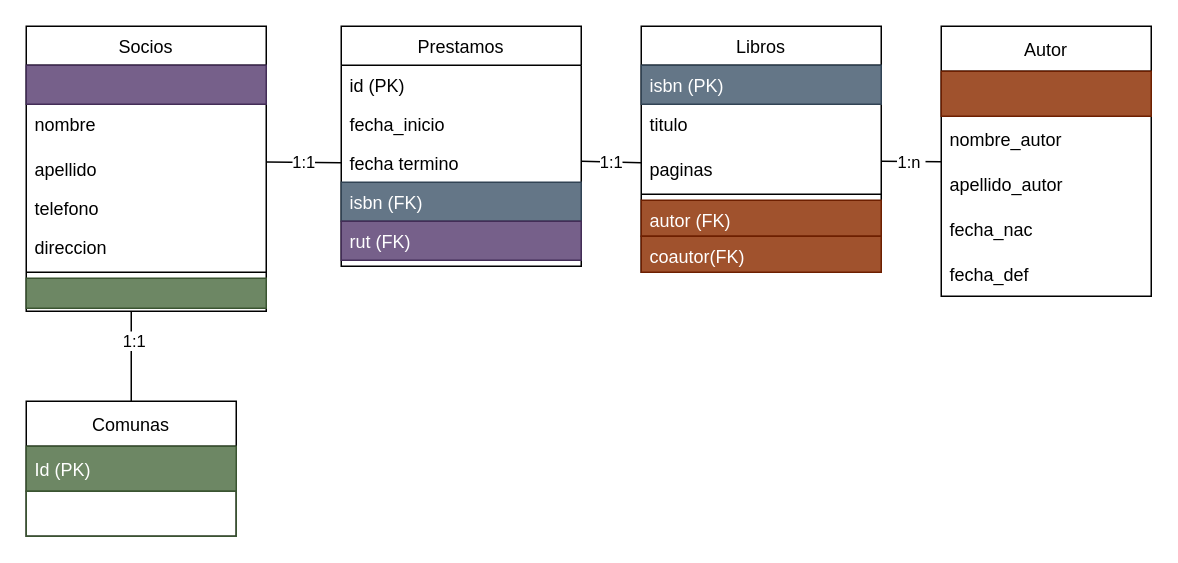
Image size: 1178x563. Some labels were removed from this diagram. The shapes that lost their labels are listed below. From the top down, each one's centre as x and y in pixels, then its label:
At point (145, 84): "rut (PK)".
At point (1045, 93): "cod_autor (PK)".
At point (145, 292): "Comuna (FK)".
